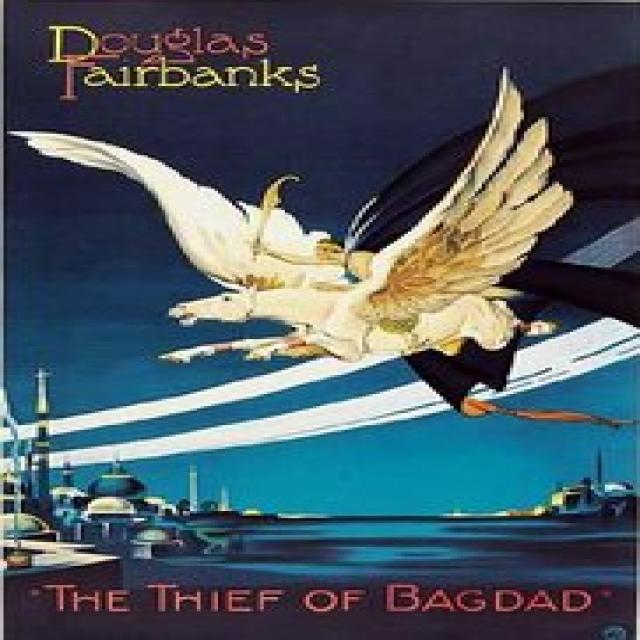movie-judul: (23, 13, 364, 122), (21, 573, 618, 627)
picture: (3, 3, 640, 638)
